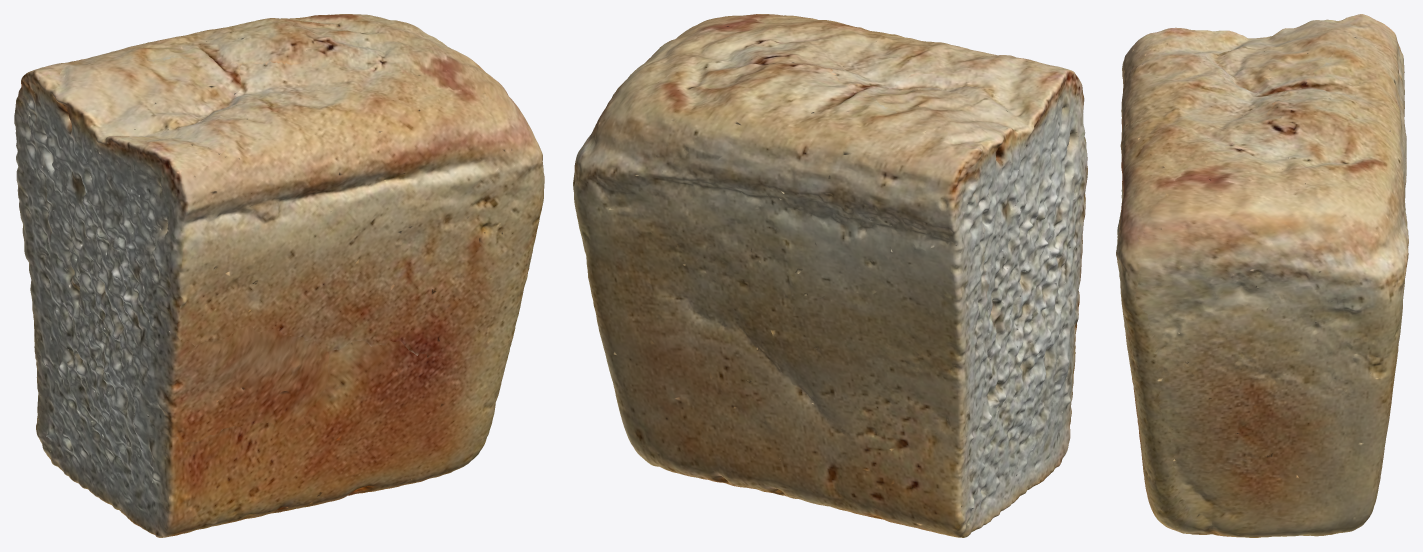
File: bread_2.fbx
3 renders of one model, left to right at view 1: azimuth 30°, elevation 25°; view 2: azimuth 150°, elevation 25°; view 3: azimuth 270°, elevation 25°, orthographic. The views are drawn at different scales.
Visible parts, largest first — view 1: Bread2; view 2: Bread2; view 3: Bread2.
Part boxes in pixels (x1=…): Bread2: x1=14, y1=14, x2=544, y2=537; Bread2: x1=573, y1=14, x2=1087, y2=537; Bread2: x1=1116, y1=14, x2=1408, y2=537.
Size of what is drawn, in the model's own units: 16.05 by 11.12 by 15.81.
